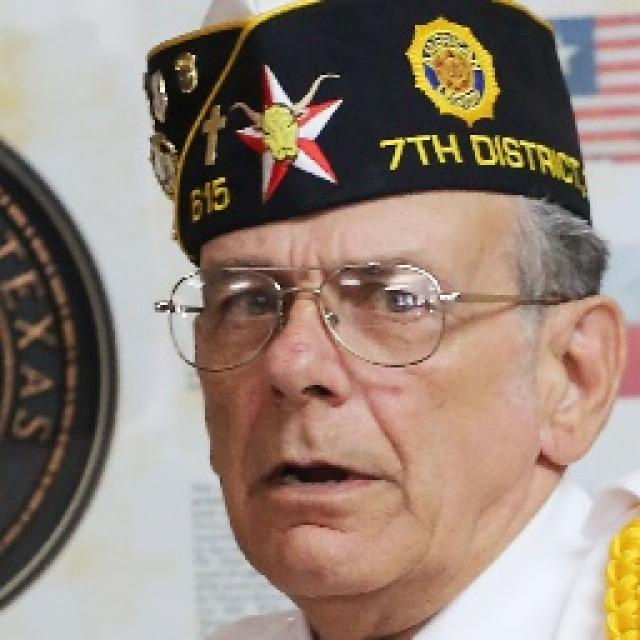earlobe: (540, 295, 628, 467)
